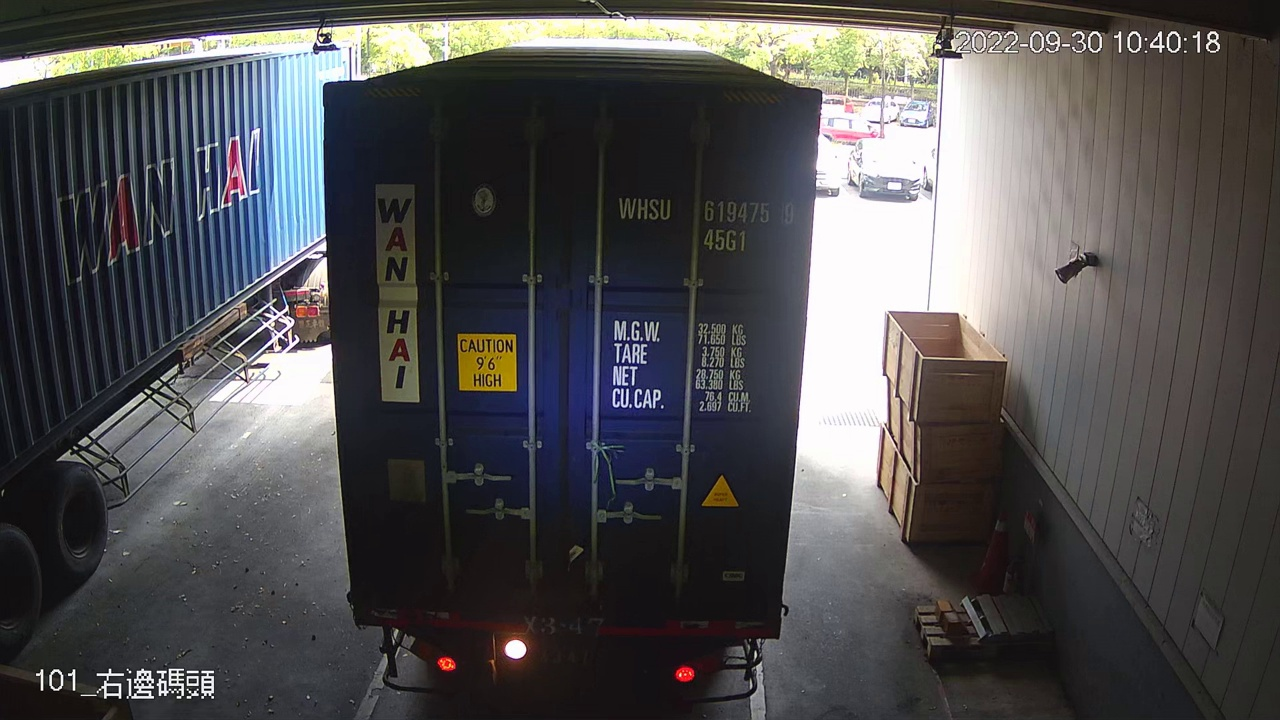container: (611, 190, 799, 256)
